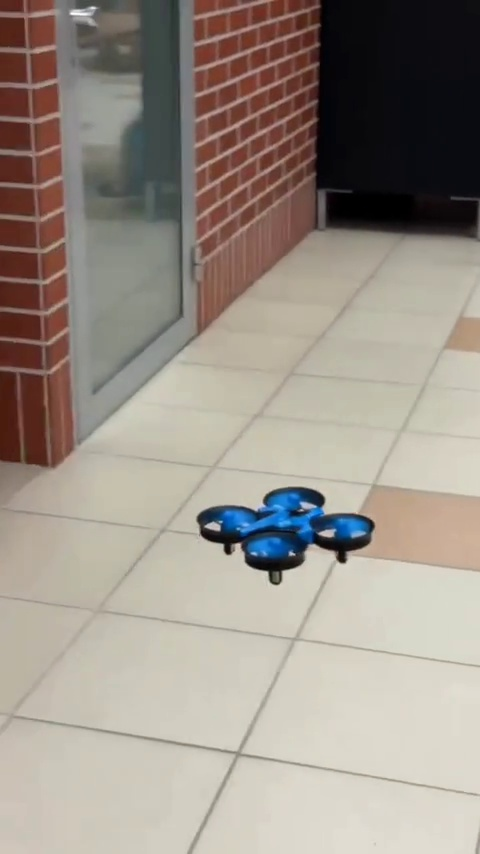drone: (197, 488, 378, 587)
